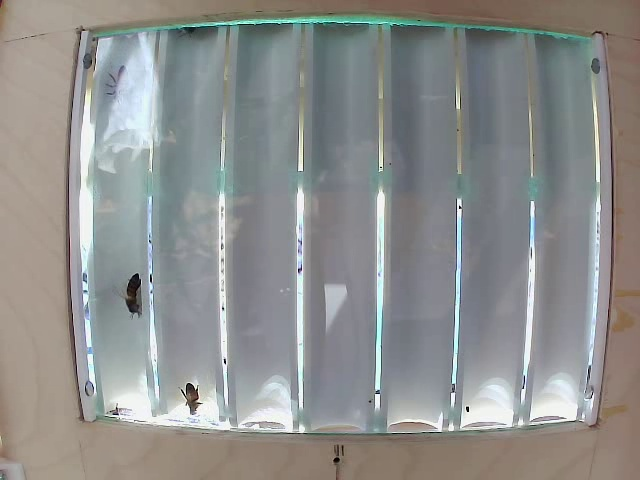bee: (180, 356, 216, 427), (122, 273, 150, 320)
